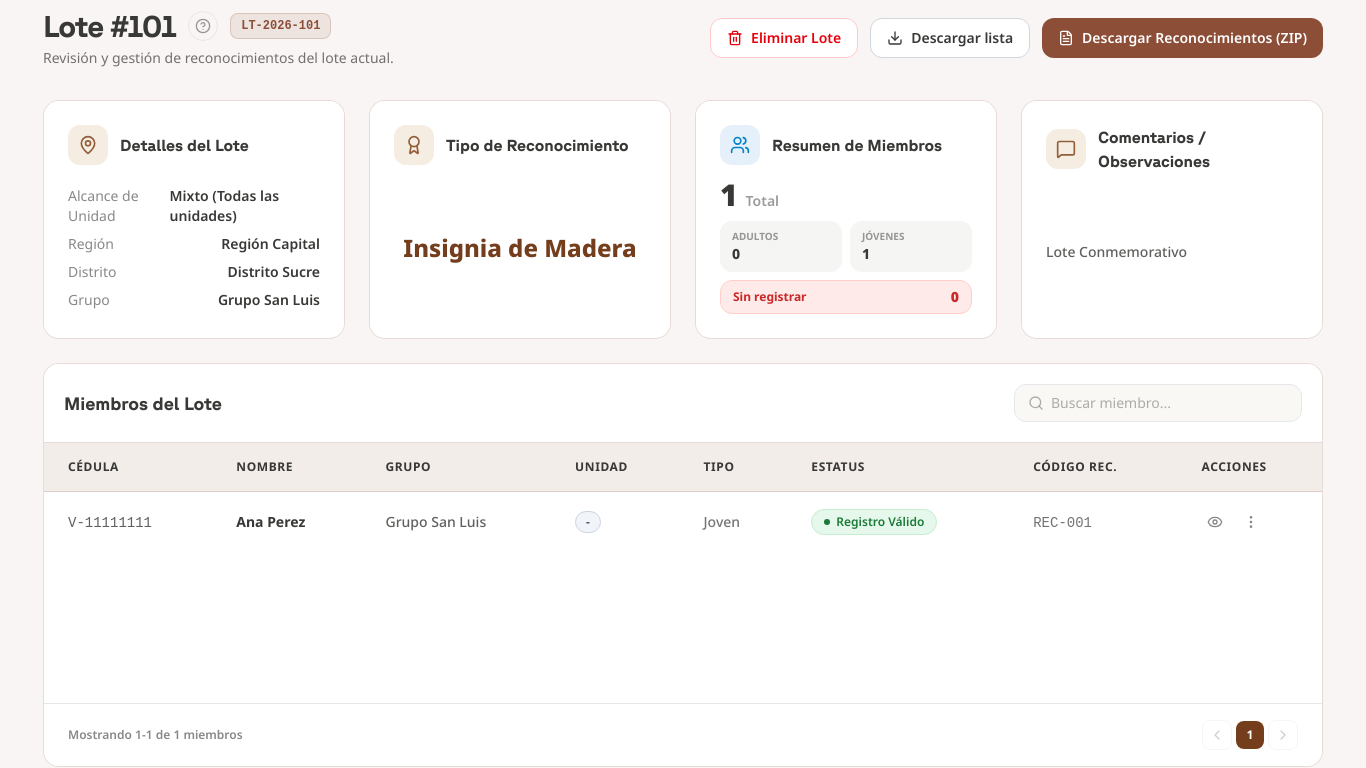
Scenario: BatchDetail component › downloads single member recognition when clicking option in member dropdown menu
Expected: the text "Ana Perez" is shown, [236,512,305,531]
Note: Open row menu
Step 1. Click the button named "Opciones de Ana Perez" → (1252, 522), box [1238,508,1266,536]
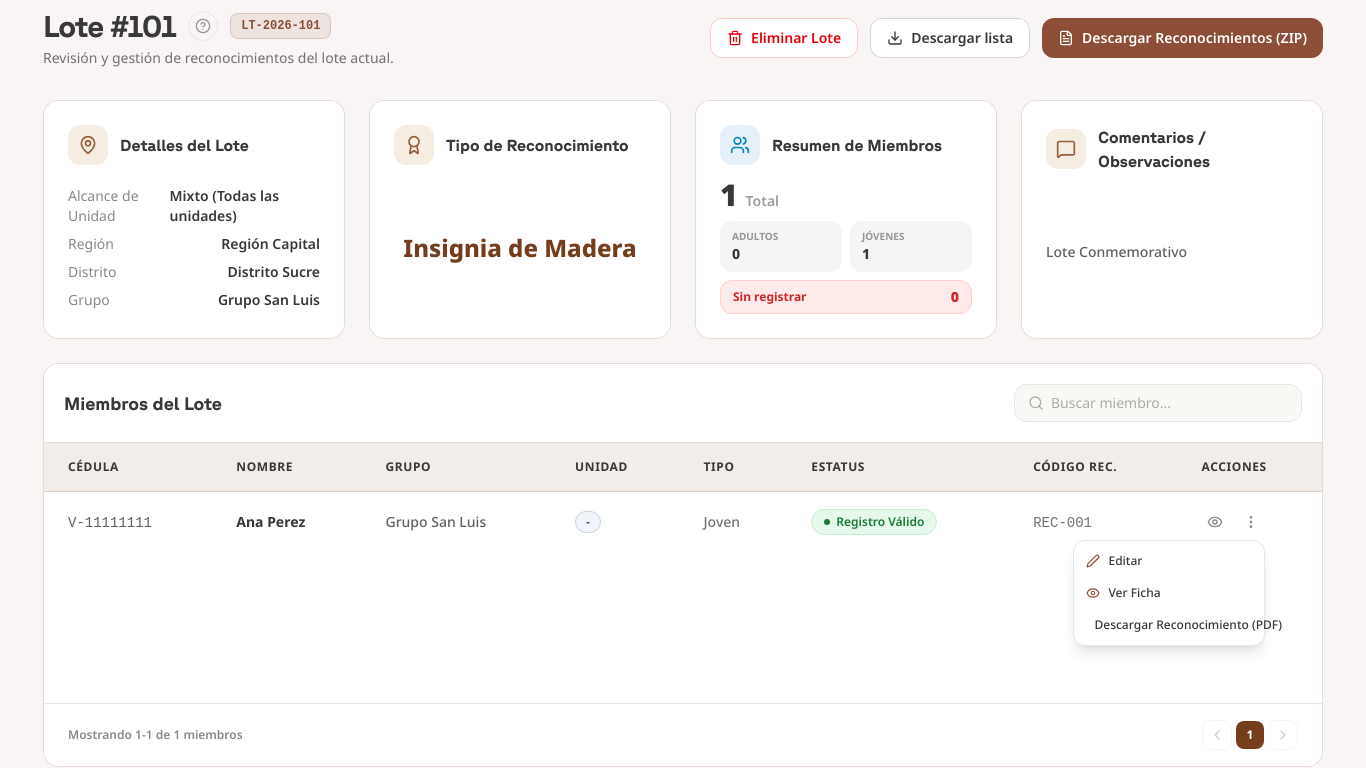
Note: Click Descargar Reconocimiento (PDF)
Step 2. Click the button "Descargar Reconocimiento (PDF)" → (1170, 625), box [1074,609,1264,641]
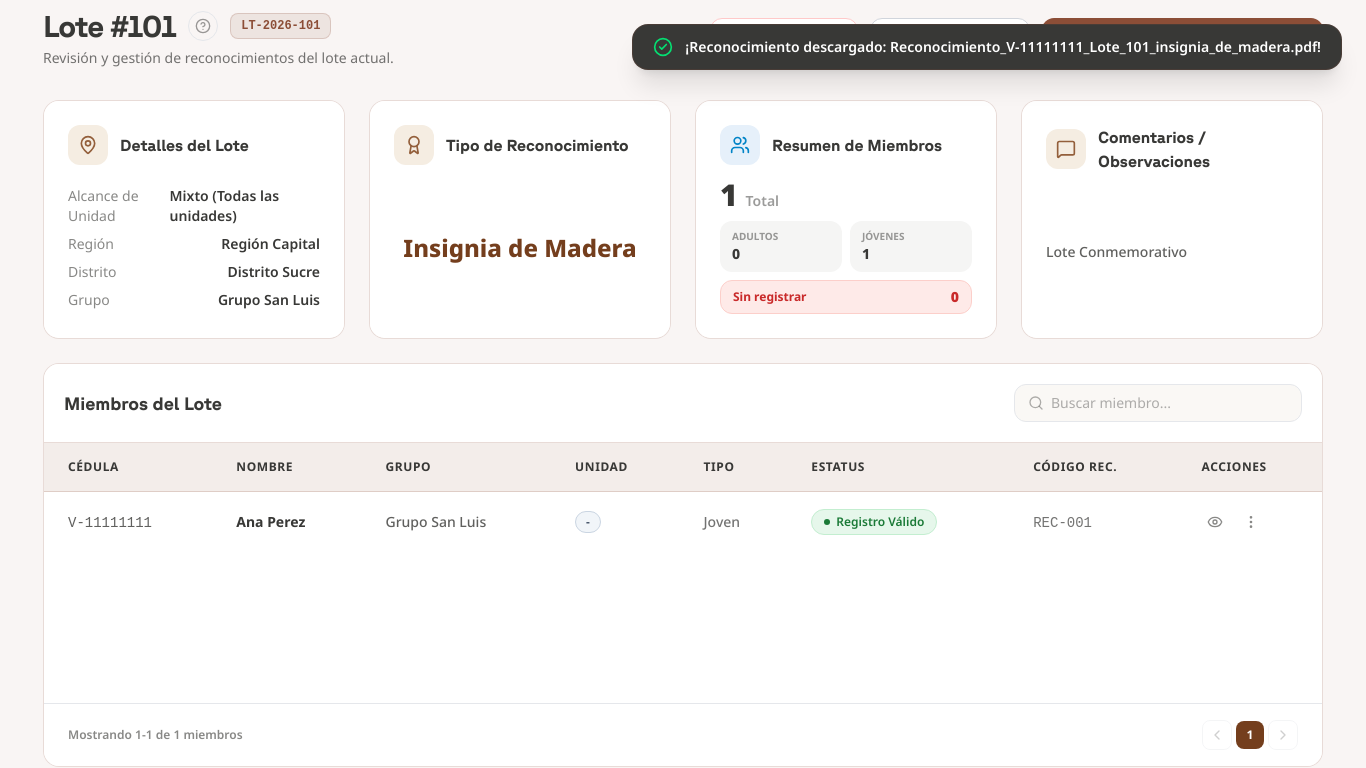
Result: the text "¡Reconocimiento descargado: Reconocimiento_V-11111111_Lote_101_insignia_de_madera.pdf!" is shown at [685,37,1321,56]
